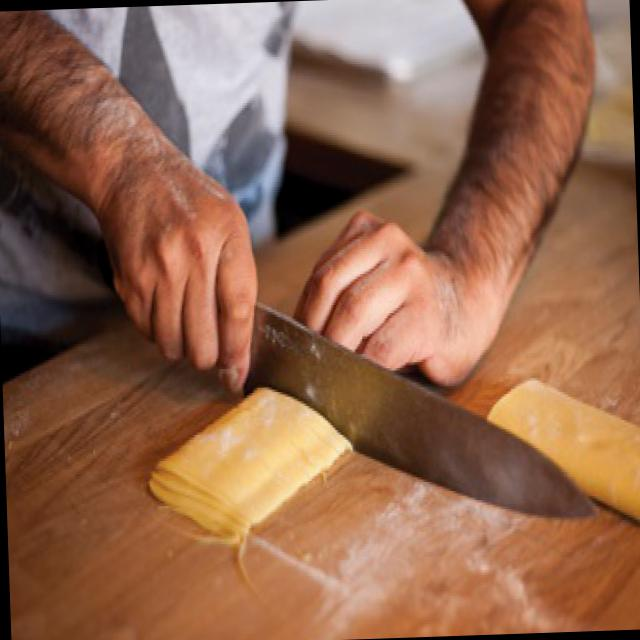knife: (118, 255, 610, 544)
